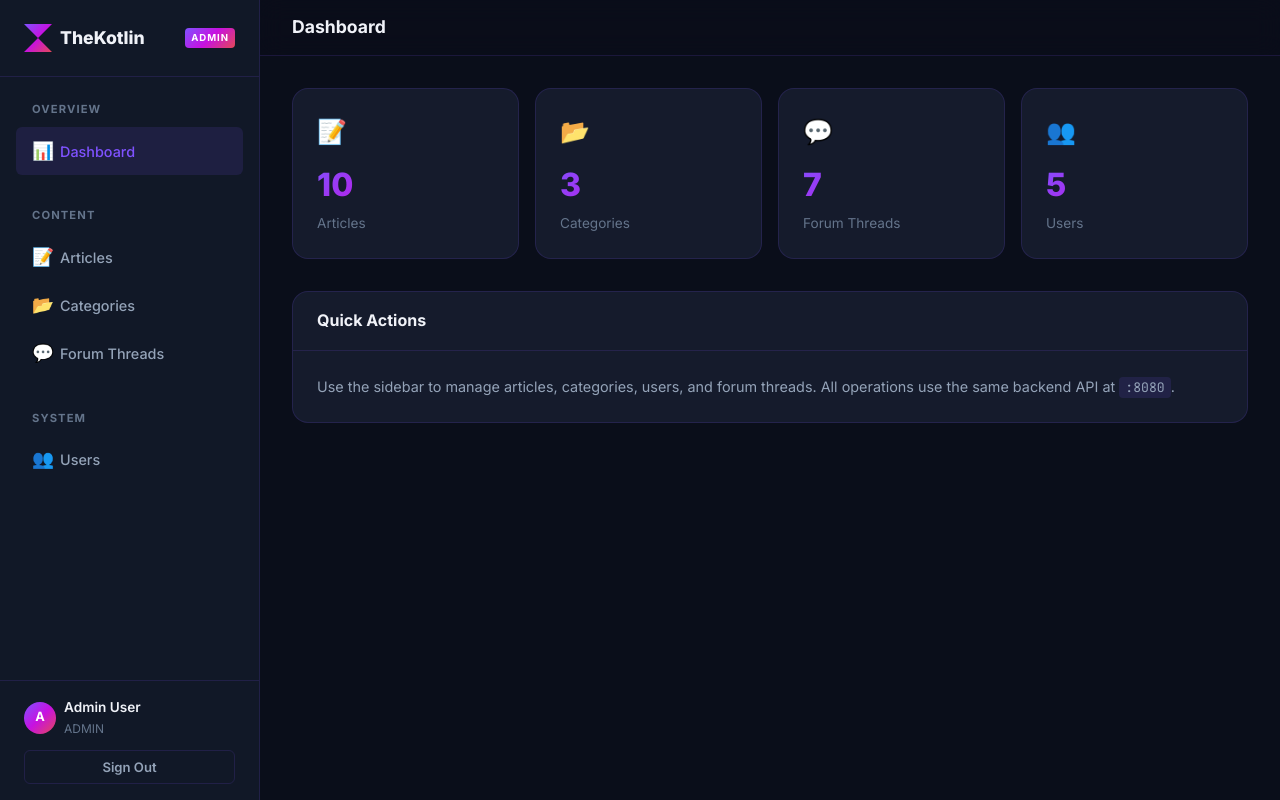
Test: AdminPage — Navigation › navigates to Articles page
Expected: the text "Admin User" is shown, [64, 699, 141, 715]
Click the element with class "sidebar-link" showing "📝 Articles" at (72, 257), box [32, 246, 113, 267]
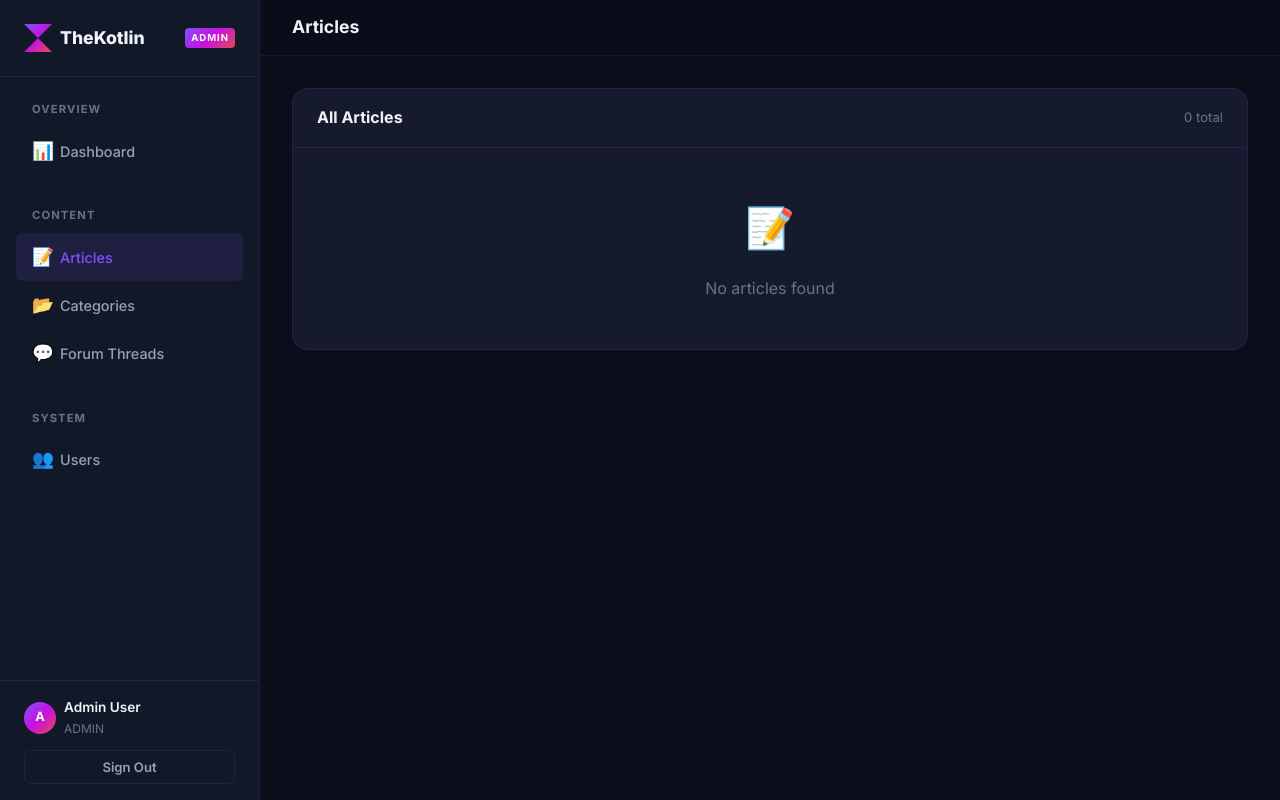
Result: the heading "All Articles" is shown at [317, 105, 403, 131]
